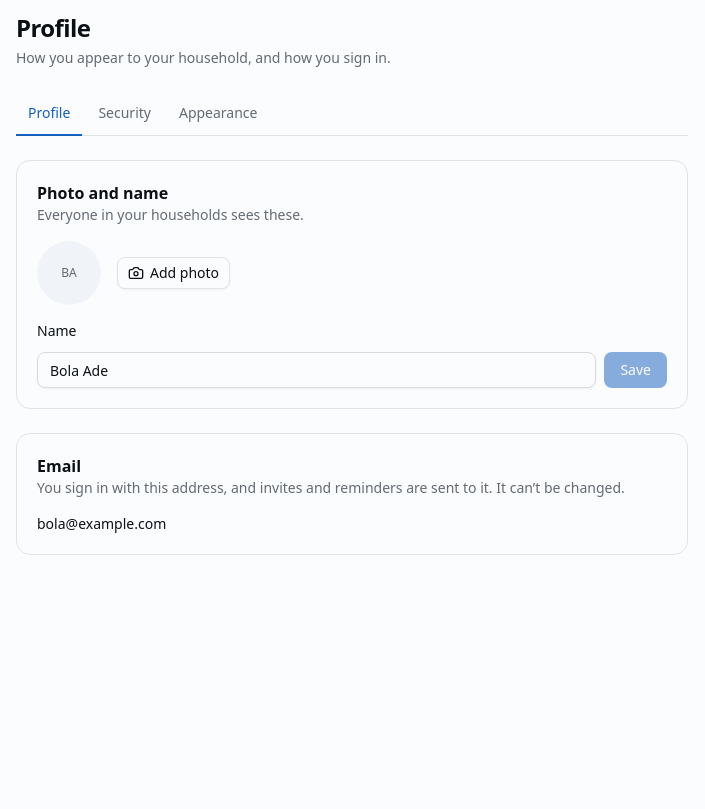
ProfilePage › keeps the password and sessions under Security
Click the link "Security": (125, 112) [98,103,151,122]
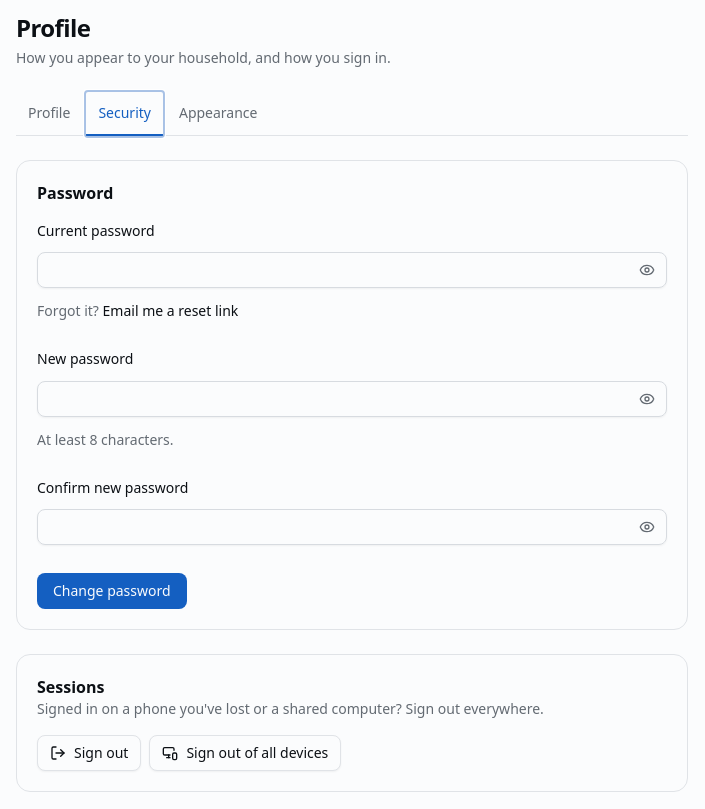
expect the password field labelled "Current password" is shown: met, box [37,252,667,288]
expect the heading "Sessions" is shown: met, box [37,676,104,698]
expect the heading "Photo and name" is gone: met
